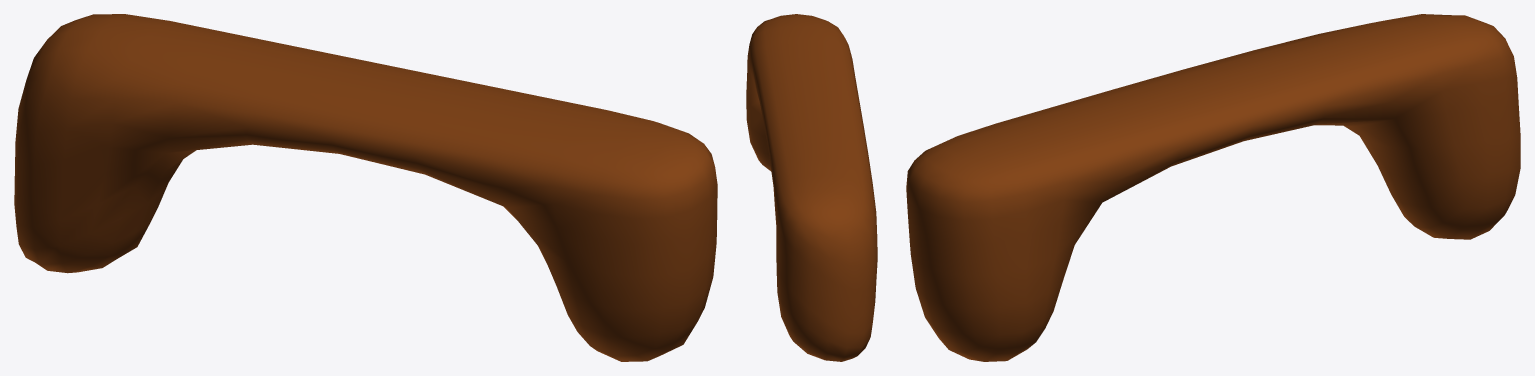
Rendered from bridge2.fbx.
3 renders of one model, left to right at view 1: azimuth 30°, elevation 25°; view 2: azimuth 150°, elevation 25°; view 3: azimuth 270°, elevation 25°, orthographic. The views are drawn at different scales.
Visible parts, largest first — view 1: Cube.046; view 2: Cube.046; view 3: Cube.046.
Part boxes in pixels (x1,y1,x2,y2): Cube.046: (14, 14, 717, 361); Cube.046: (746, 14, 877, 361); Cube.046: (906, 14, 1520, 361).
Bounding box in the file's own units: 1263 × 676 × 1673.
